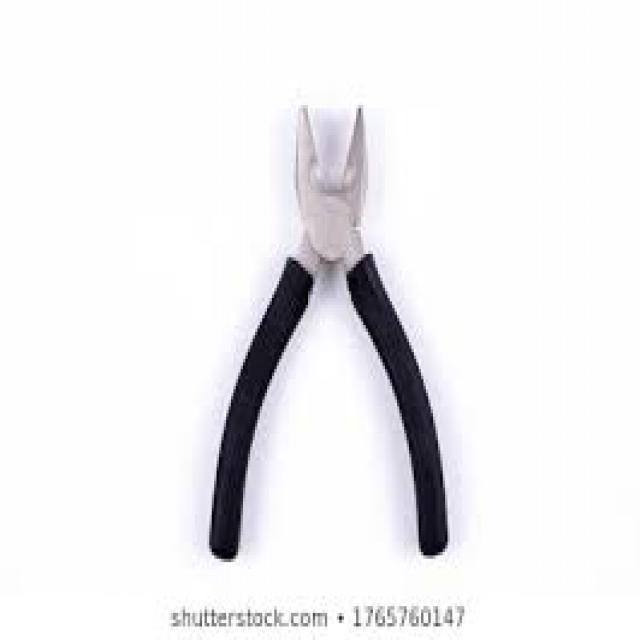pliers: (202, 95, 452, 568)
